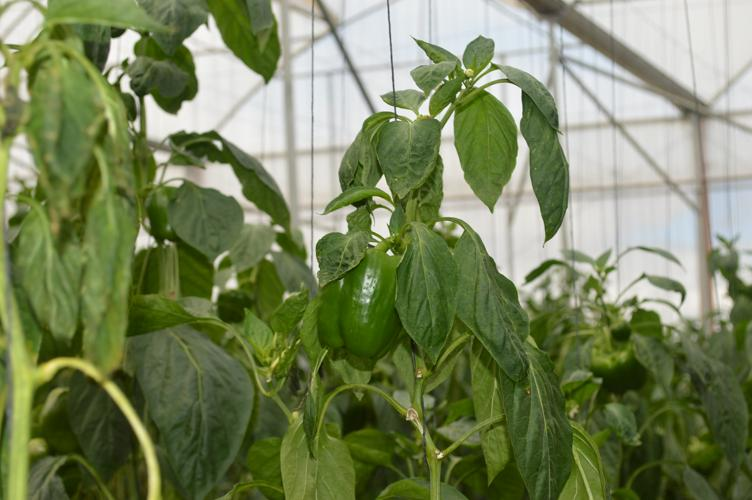BellPepper: (316, 251, 398, 361), (589, 339, 644, 389)
